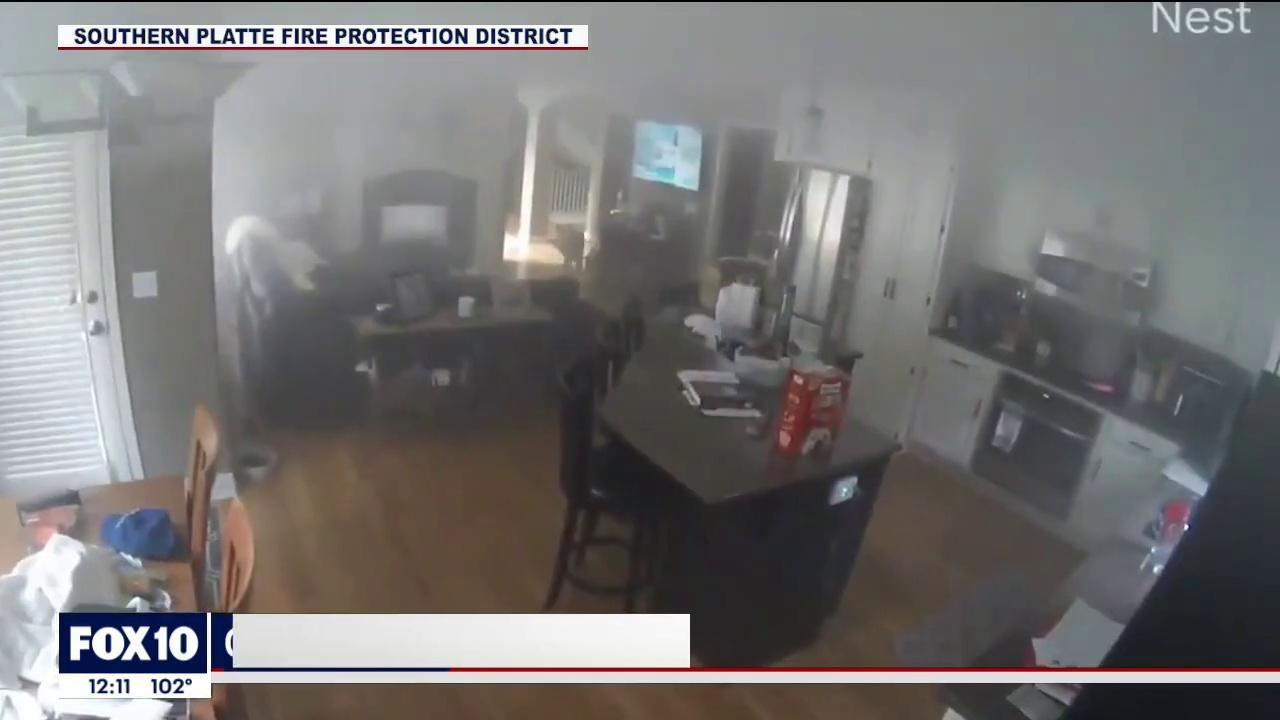Fire: (1078, 382, 1123, 394)
